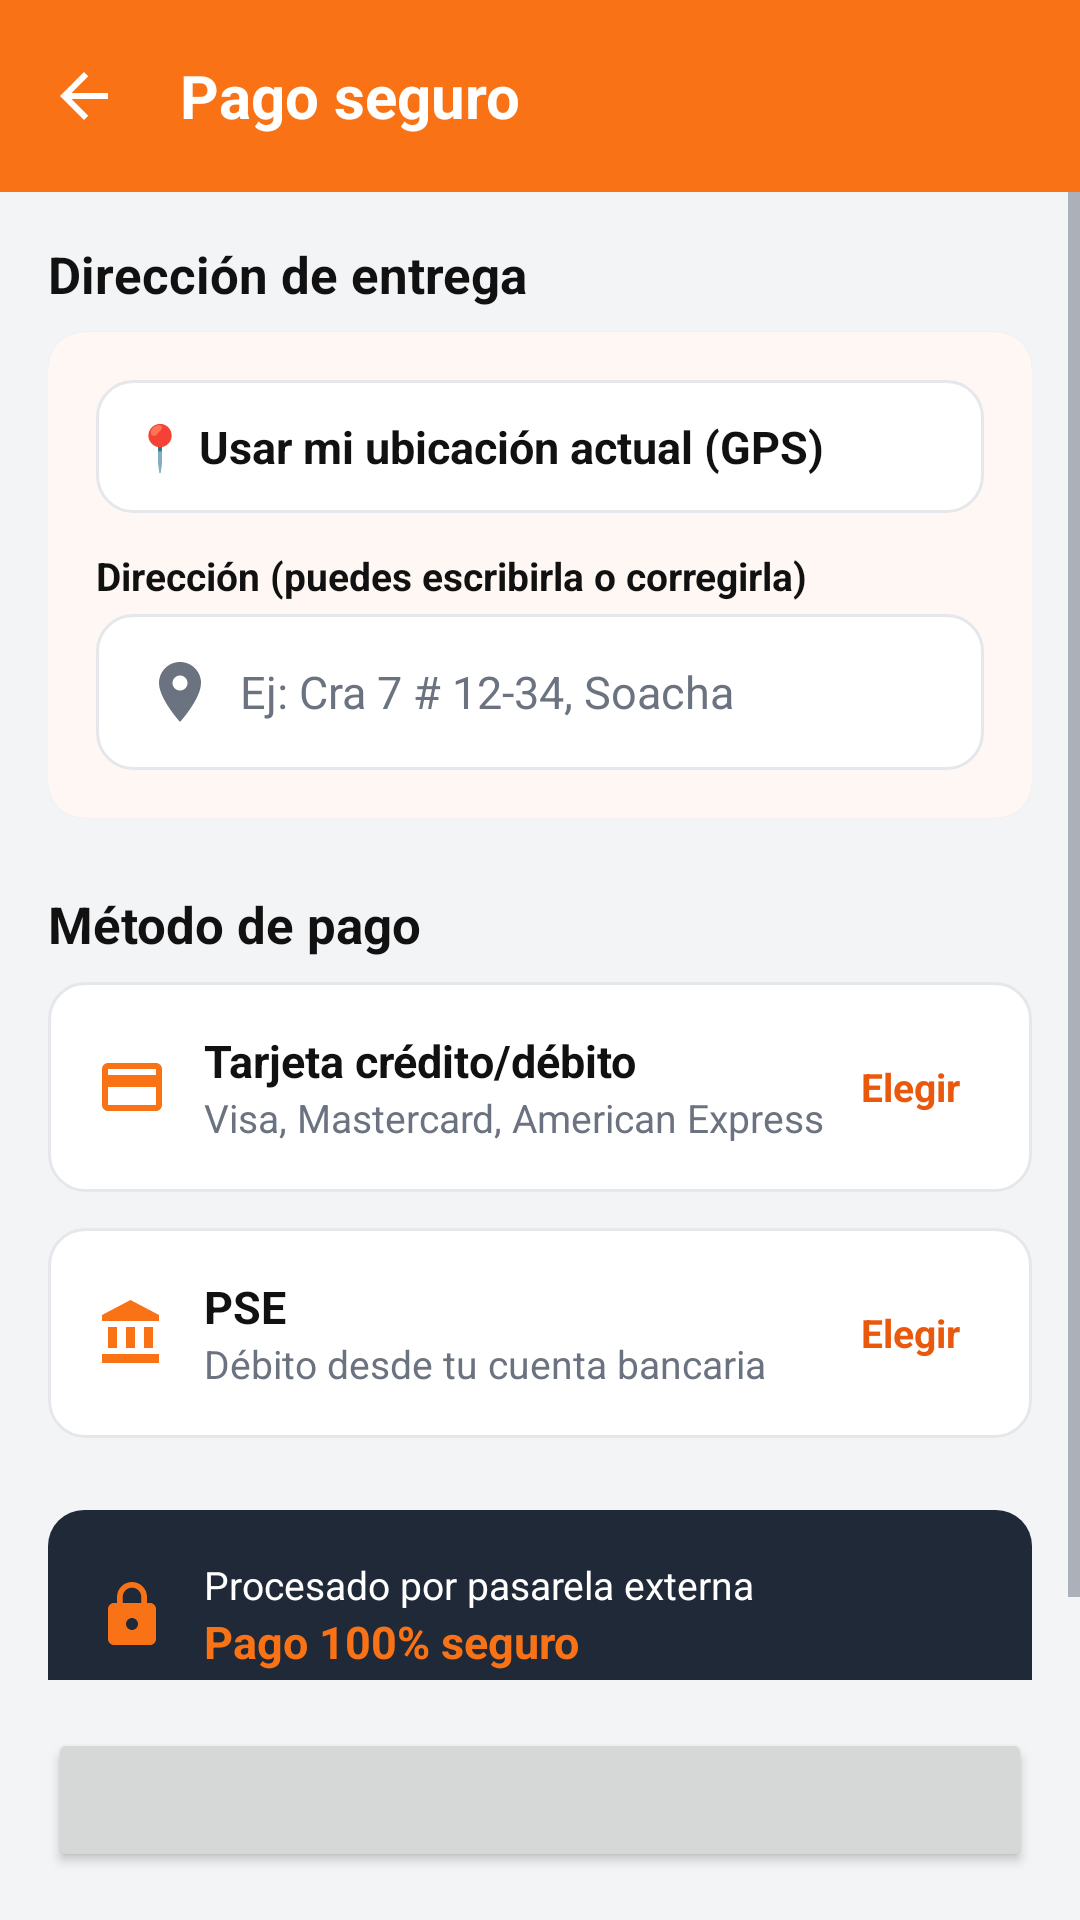

Icon click points for this 1080×1920 phone screenshot, format point (x, y):
bank: point (130, 1331)
credit card: point (132, 1087)
lock: point (132, 1613)
